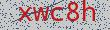8: (65, 1, 81, 27)
c: (49, 4, 65, 27)
h: (81, 1, 98, 28)
w: (32, 4, 50, 28)
x: (15, 4, 33, 27)
